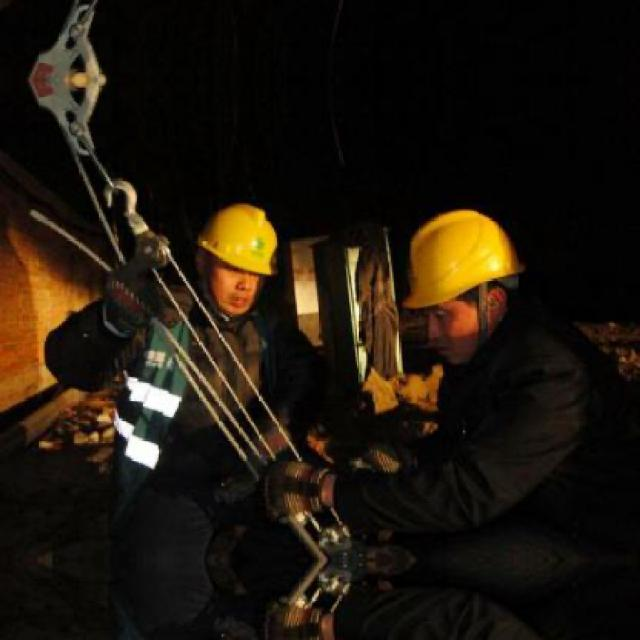helmet: (400, 205, 522, 357), (195, 198, 283, 317)
